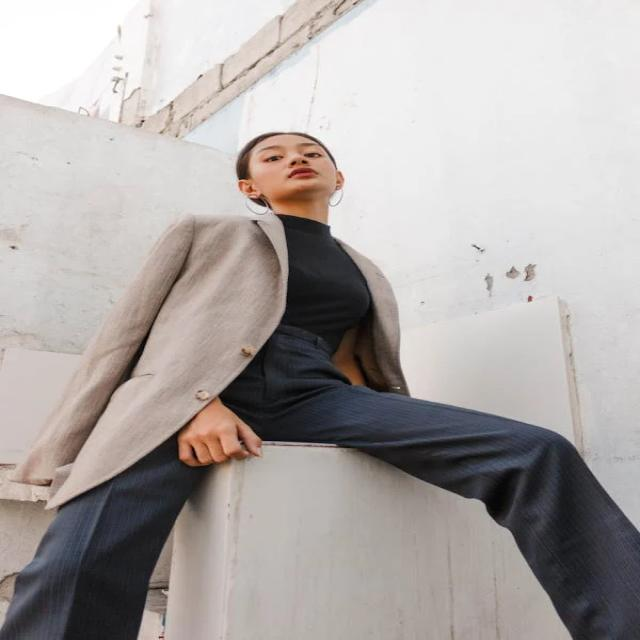Real human 2: (71, 122, 640, 640)
